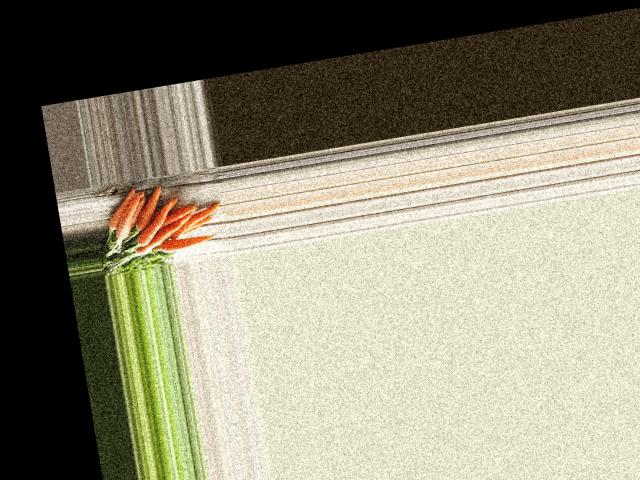carrot: (160, 231, 216, 257)
